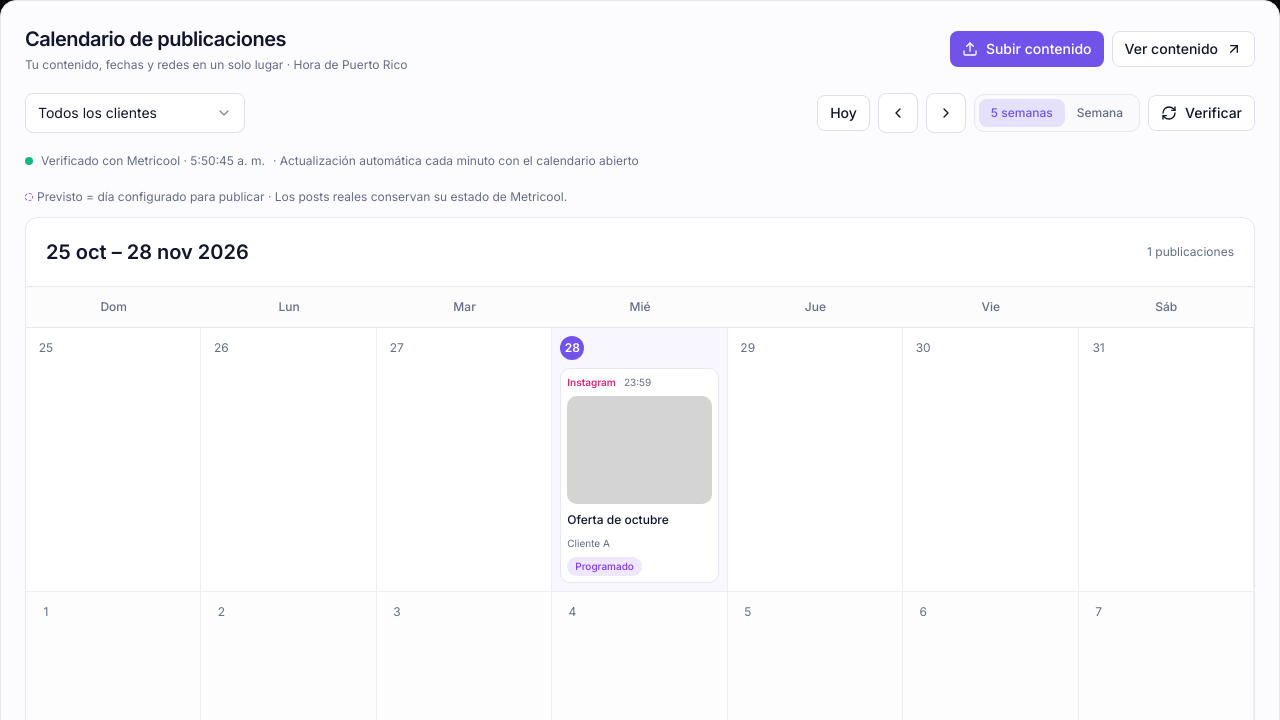
visual posting calendar › keeps the last result visible when a later verification fails
Step 1. Click the button with aria-label "Verificar con Metricool" → (1202, 113), box x1=1148 y1=95 x2=1255 y2=131
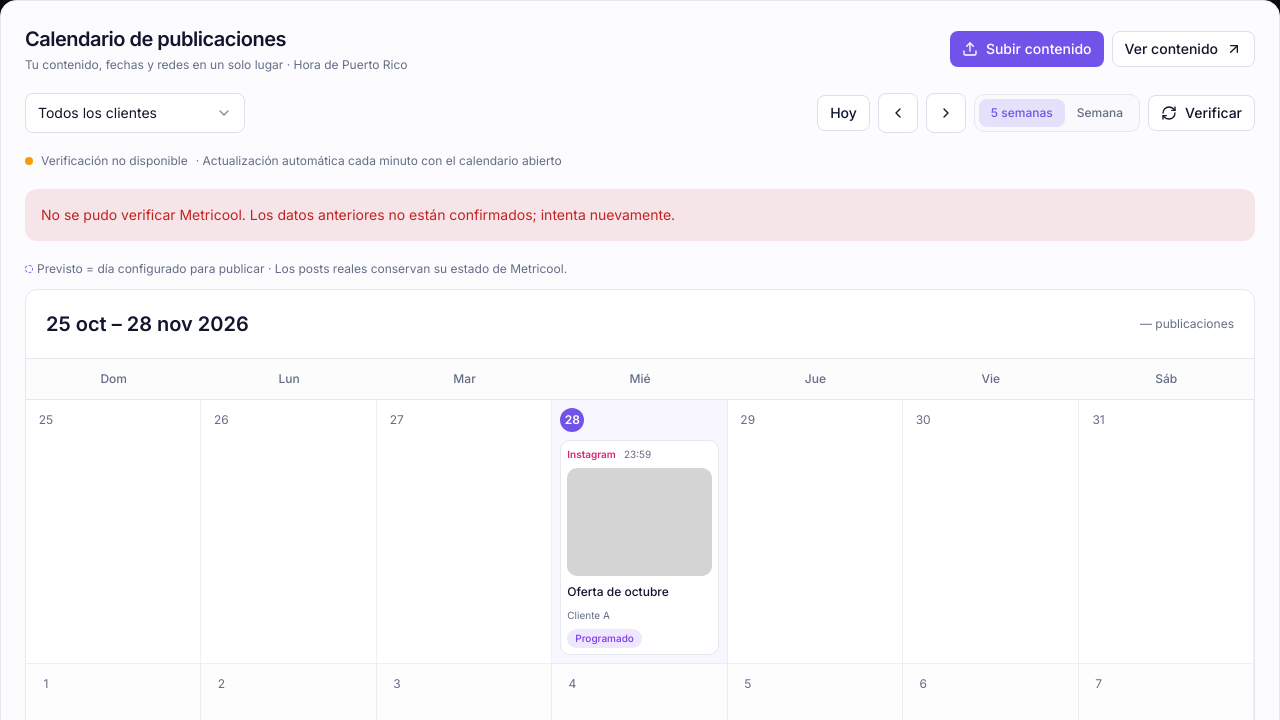
Expected: the text "Oferta de octubre" is shown, x1=567 y1=584 x2=669 y2=599
Now the message shows "No se pudo verificar", box x1=41 y1=206 x2=675 y2=223
